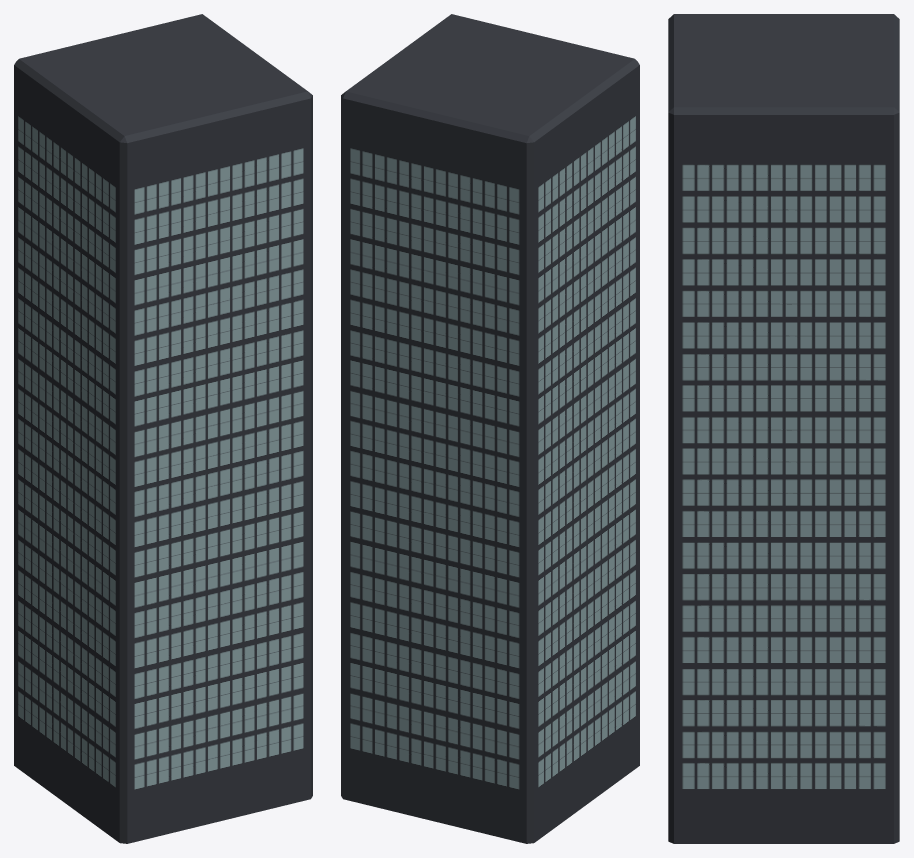
The model's file is Mob building_C.fbx.
3 views of the same model, side by side, from view 1: azimuth 30°, elevation 25°; view 2: azimuth 150°, elevation 25°; view 3: azimuth 270°, elevation 25° (orthographic). The views are drawn at different scales.
Parts seen in each view (by area): view 1: Mob building_C; view 2: Mob building_C; view 3: Mob building_C.
Part boxes in pixels (left/top/right/bottom): Mob building_C: left=14, top=14, right=312, bottom=843; Mob building_C: left=341, top=14, right=639, bottom=843; Mob building_C: left=668, top=14, right=899, bottom=843.
Bounding box in the file's own units: 20.05 × 20 × 70.
